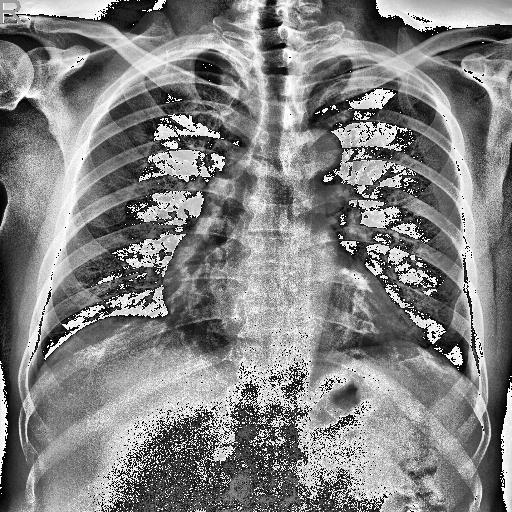0- Aortic enlargement: (182, 120, 372, 264)
3- Cardiomegaly: (140, 214, 434, 382), (158, 274, 420, 341)
9- Other lesion: (162, 251, 234, 353)
